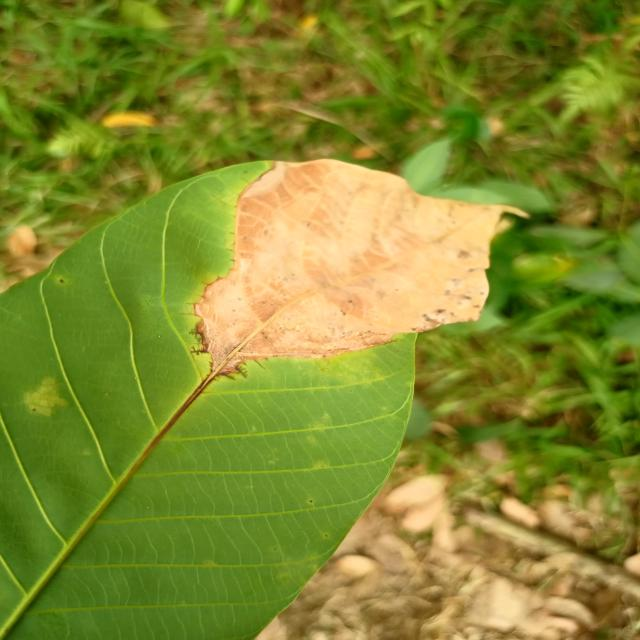Colletotrichum: (60, 279, 64, 283)
Corynespora: (235, 366, 248, 378), (189, 330, 203, 341), (190, 347, 208, 355), (223, 374, 236, 380)
Leaf-Blight: (198, 159, 532, 370)
